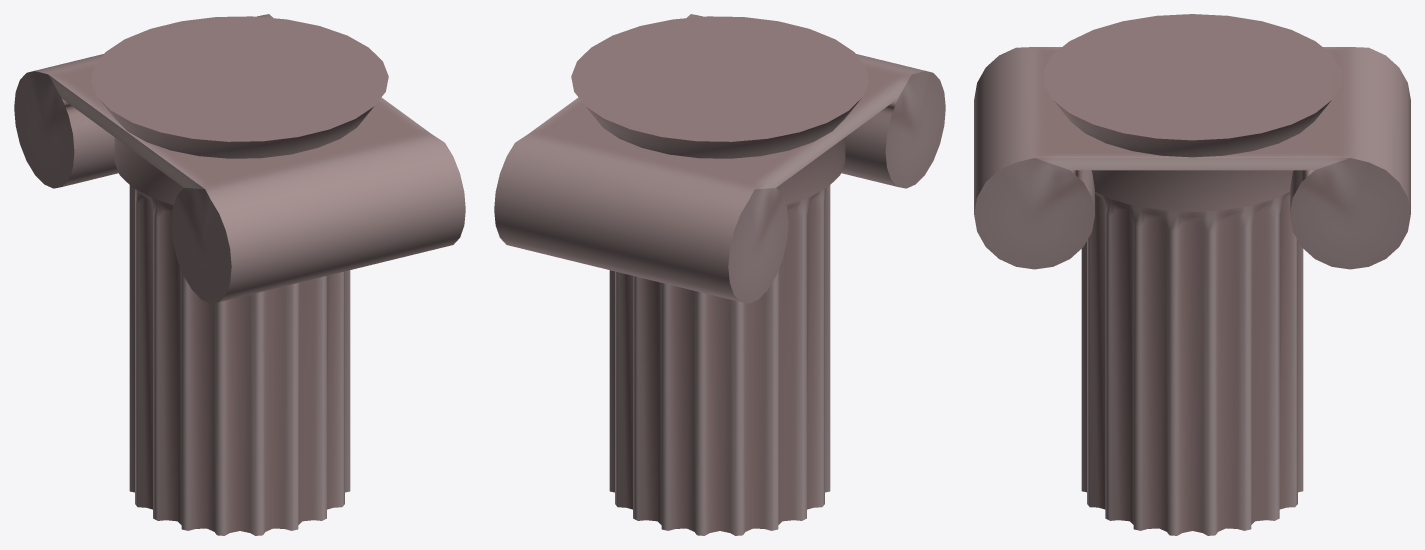
File: Pillar_Top_Not_Broken.fbx
3 views of the same model, side by side, from view 1: azimuth 30°, elevation 25°; view 2: azimuth 150°, elevation 25°; view 3: azimuth 270°, elevation 25° (orthographic).
Parts seen in each view (by area): view 1: Pillar_Top_Not_broken; view 2: Pillar_Top_Not_broken; view 3: Pillar_Top_Not_broken.
Boxes of the visible parts, x1,y1,x2,y2 form: Pillar_Top_Not_broken: (14,14,465,535); Pillar_Top_Not_broken: (494,14,945,535); Pillar_Top_Not_broken: (974,14,1410,535).
Size of the model in its own units: 37.93 by 57.7 by 55.38.
Materials: 1 (1 with a texture image).
